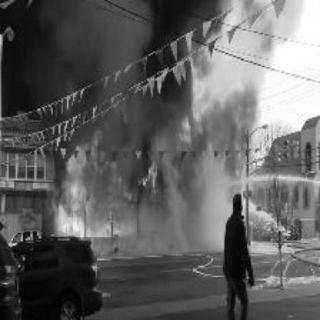other: (12, 230, 120, 308)
